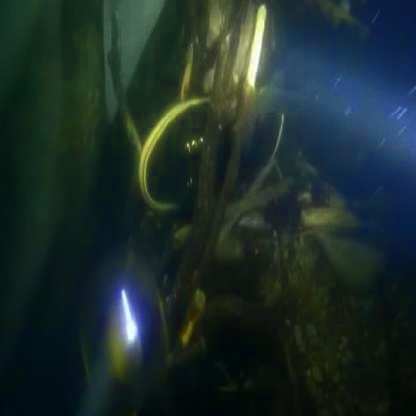misc: (128, 72, 288, 248)
